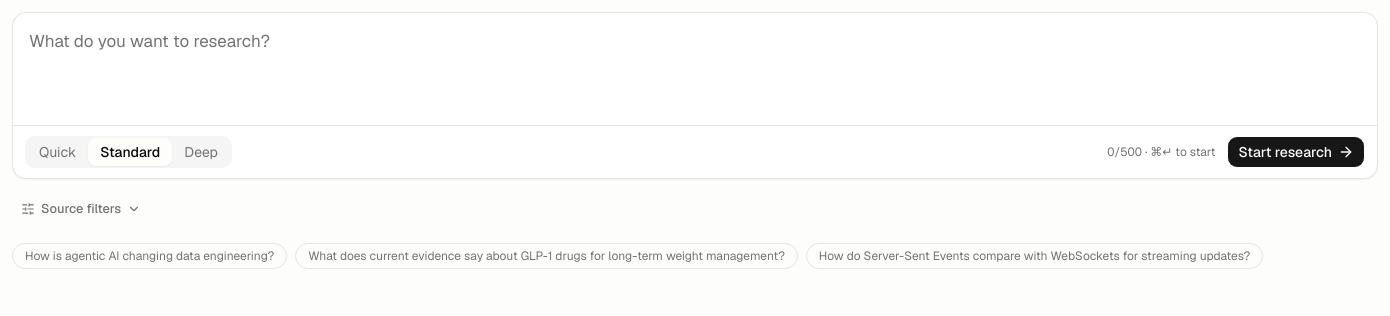
Test case: ResearchForm › shows meaningful backend errors
This screenshot has width=1390, height=316.
Type "How is agentic AI changing data engineering?" into the text box named "Research question". click: {"x": 695, "y": 69}
box: [13,13,1377,125]
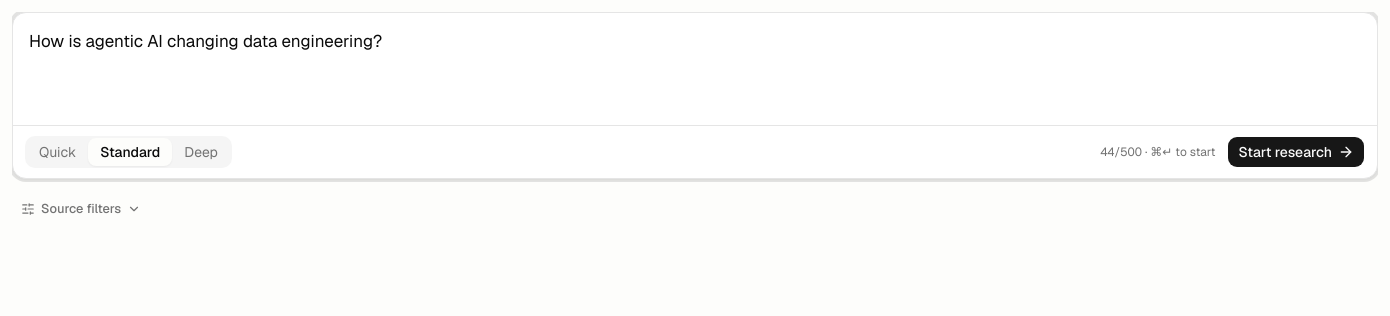
Click the button "Start research". click: {"x": 1296, "y": 152}
box: [1228,136,1365,168]
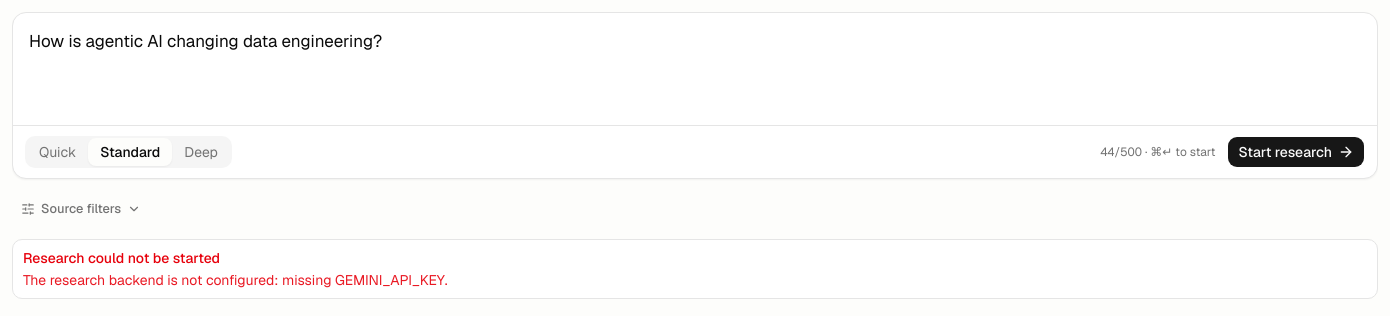
Result: the text "missing GEMINI_API_KEY" is shown at [23,271,448,289]
